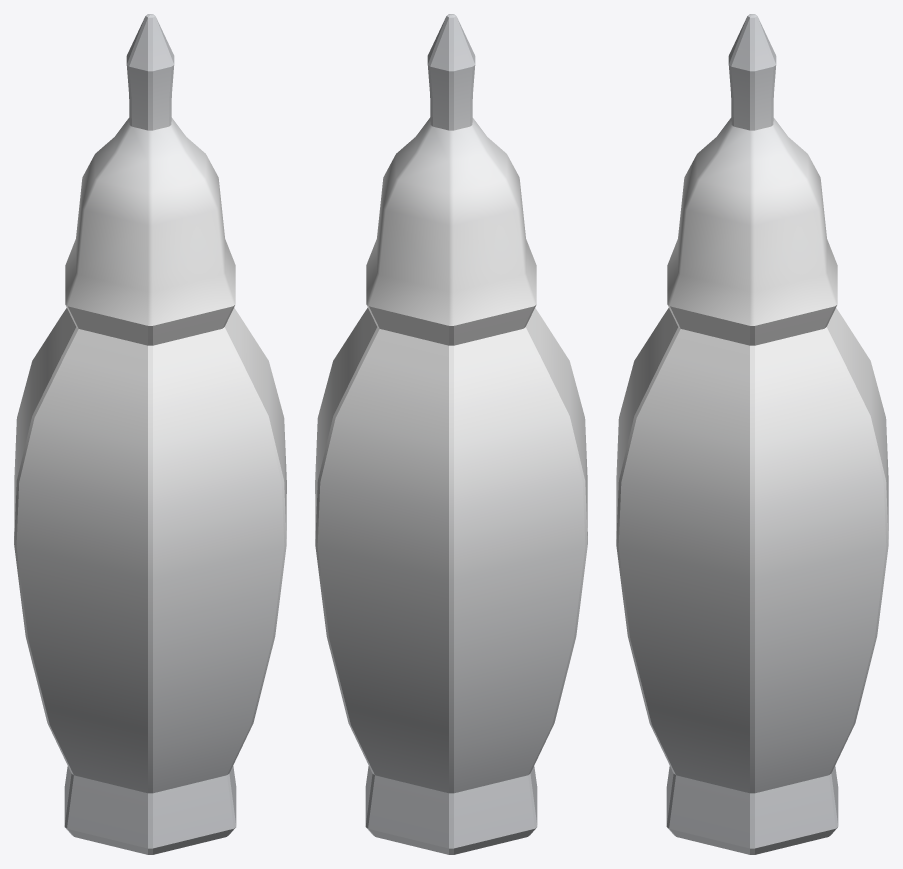
Rendered from Vase_Profiled_Chamfered.fbx.
The picture shows the model from 3 angles, left to right: view 1: azimuth 30°, elevation 25°; view 2: azimuth 150°, elevation 25°; view 3: azimuth 270°, elevation 25°; orthographic projection.
Visible parts, largest first — view 1: Vase_Profiled_Chamfered; view 2: Vase_Profiled_Chamfered; view 3: Vase_Profiled_Chamfered.
Part boxes in pixels (<box>): Vase_Profiled_Chamfered: <box>14,14,286,854</box>; Vase_Profiled_Chamfered: <box>315,14,587,854</box>; Vase_Profiled_Chamfered: <box>616,14,888,854</box>.
Size of the model in its own units: 21.48 by 61.28 by 18.75.
